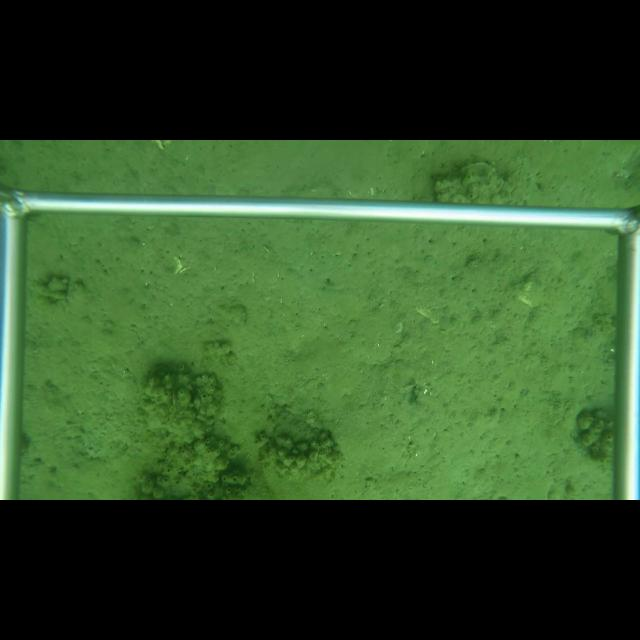Oyster-Closed: (431, 160, 505, 204)
